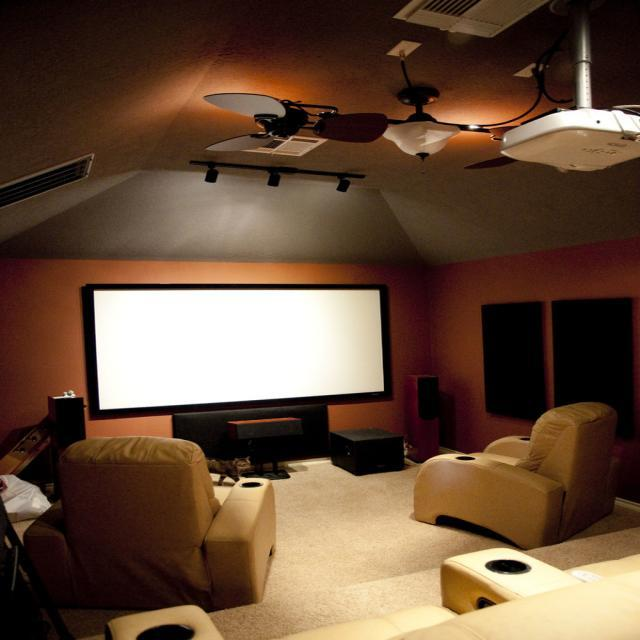fan_off: (207, 95, 390, 156)
